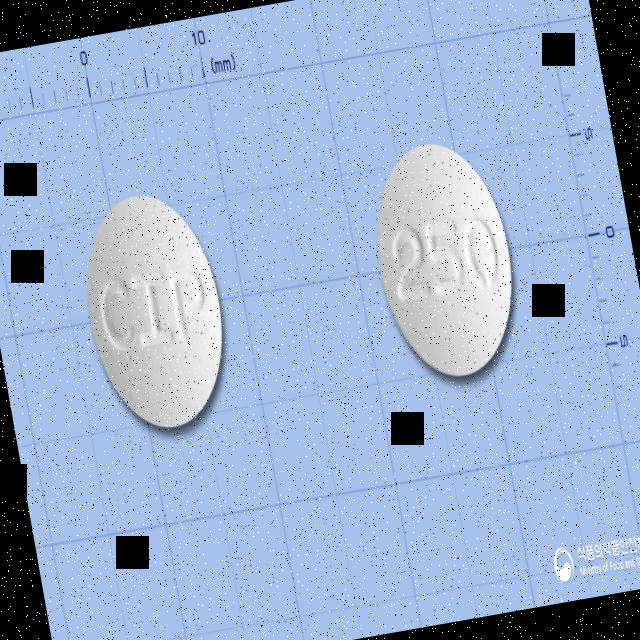Ciprocin: (354, 123, 538, 398), (66, 178, 246, 444)
